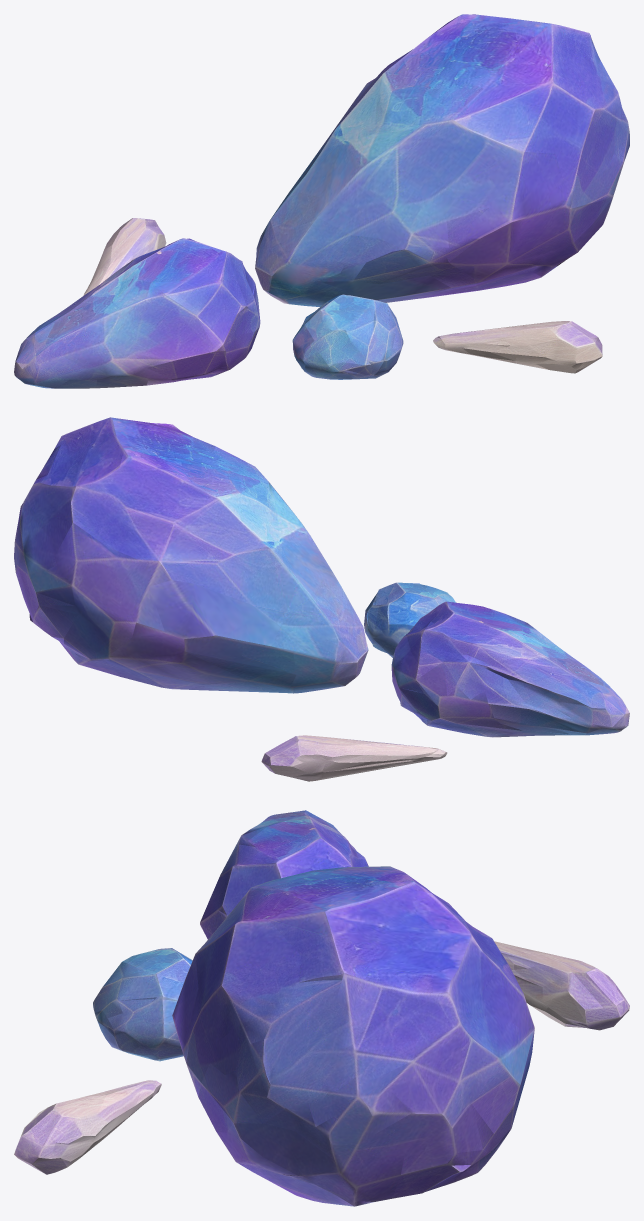
Rendered from echo-crystal.glb.
3 views of the same model, one above another, from view 1: azimuth 30°, elevation 25°; view 2: azimuth 150°, elevation 25°; view 3: azimuth 270°, elevation 25° (orthographic). The views are drawn at different scales.
Parts seen in each view (by area): view 1: output_unwrapped; view 2: output_unwrapped; view 3: output_unwrapped.
Part boxes in pixels (x1,y1,x2,y2): output_unwrapped: (14, 14, 629, 388); output_unwrapped: (14, 417, 629, 781); output_unwrapped: (14, 810, 629, 1206).
Size of the model in its own units: 1.9 by 0.7198 by 1.28.
Materials: 1 (1 with a texture image).
